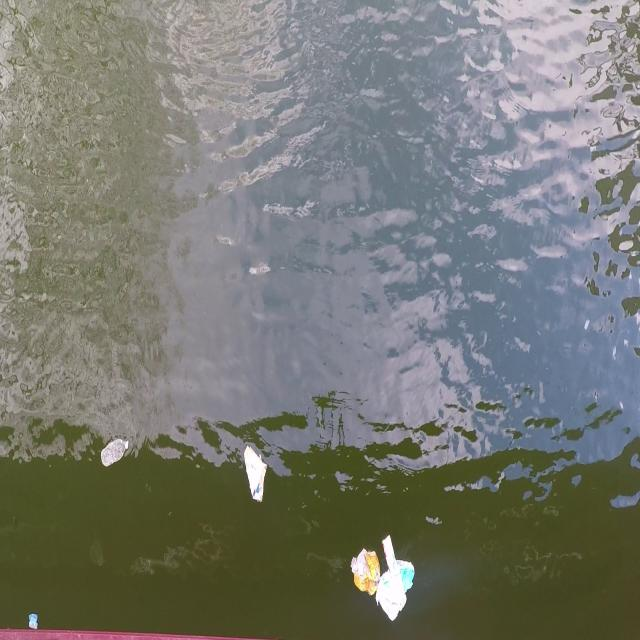Bouteille plastique: (100, 435, 131, 470)
